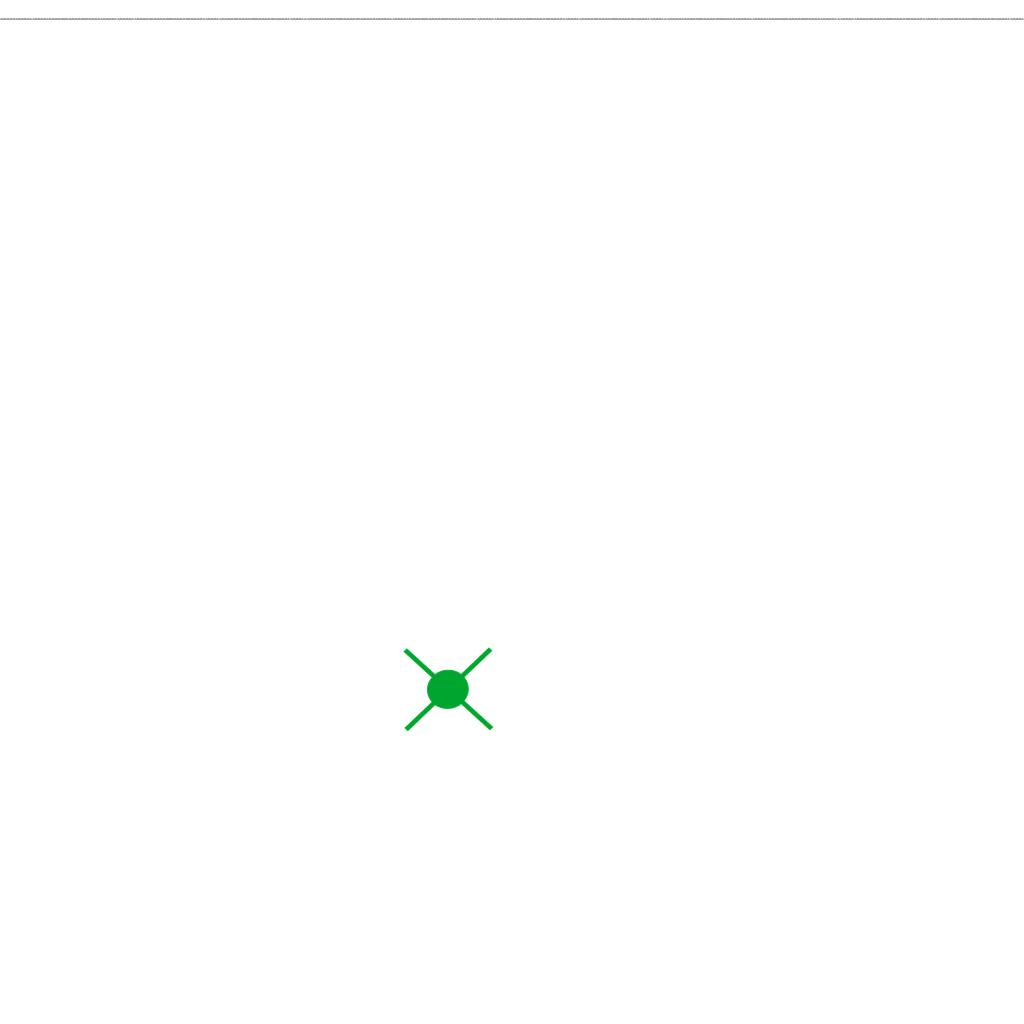Notlichtbaustein_in_Allgemeinbeleuchtug_engebaut_Einbau_(1UG_und_2UG_Aufbauvaria: (398, 639, 498, 742)
